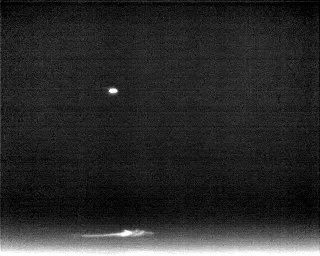AIRPLANE: (106, 85, 120, 97)
